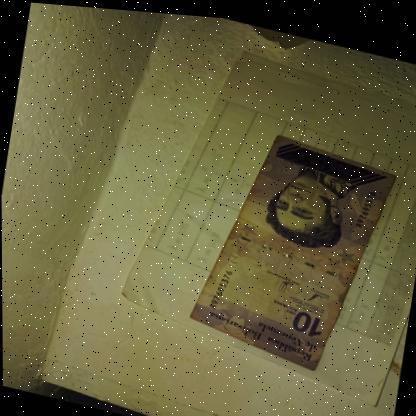ten-front-vef: (182, 112, 400, 380)
